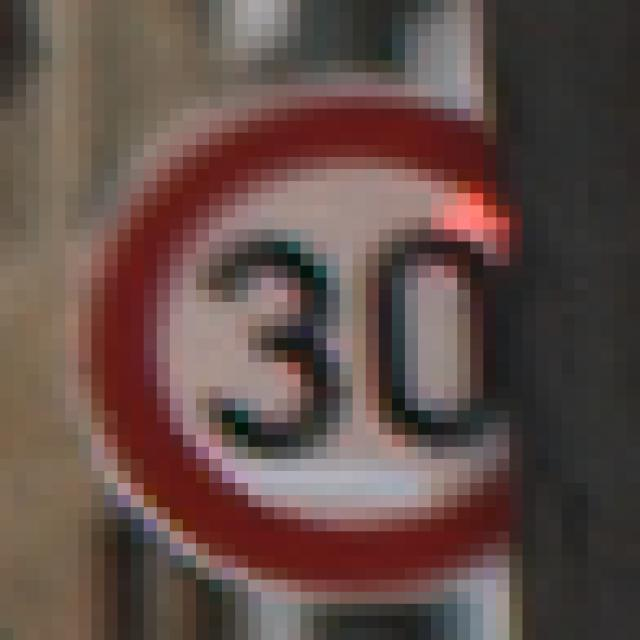Speed Limit -30-: (59, 60, 555, 568)
